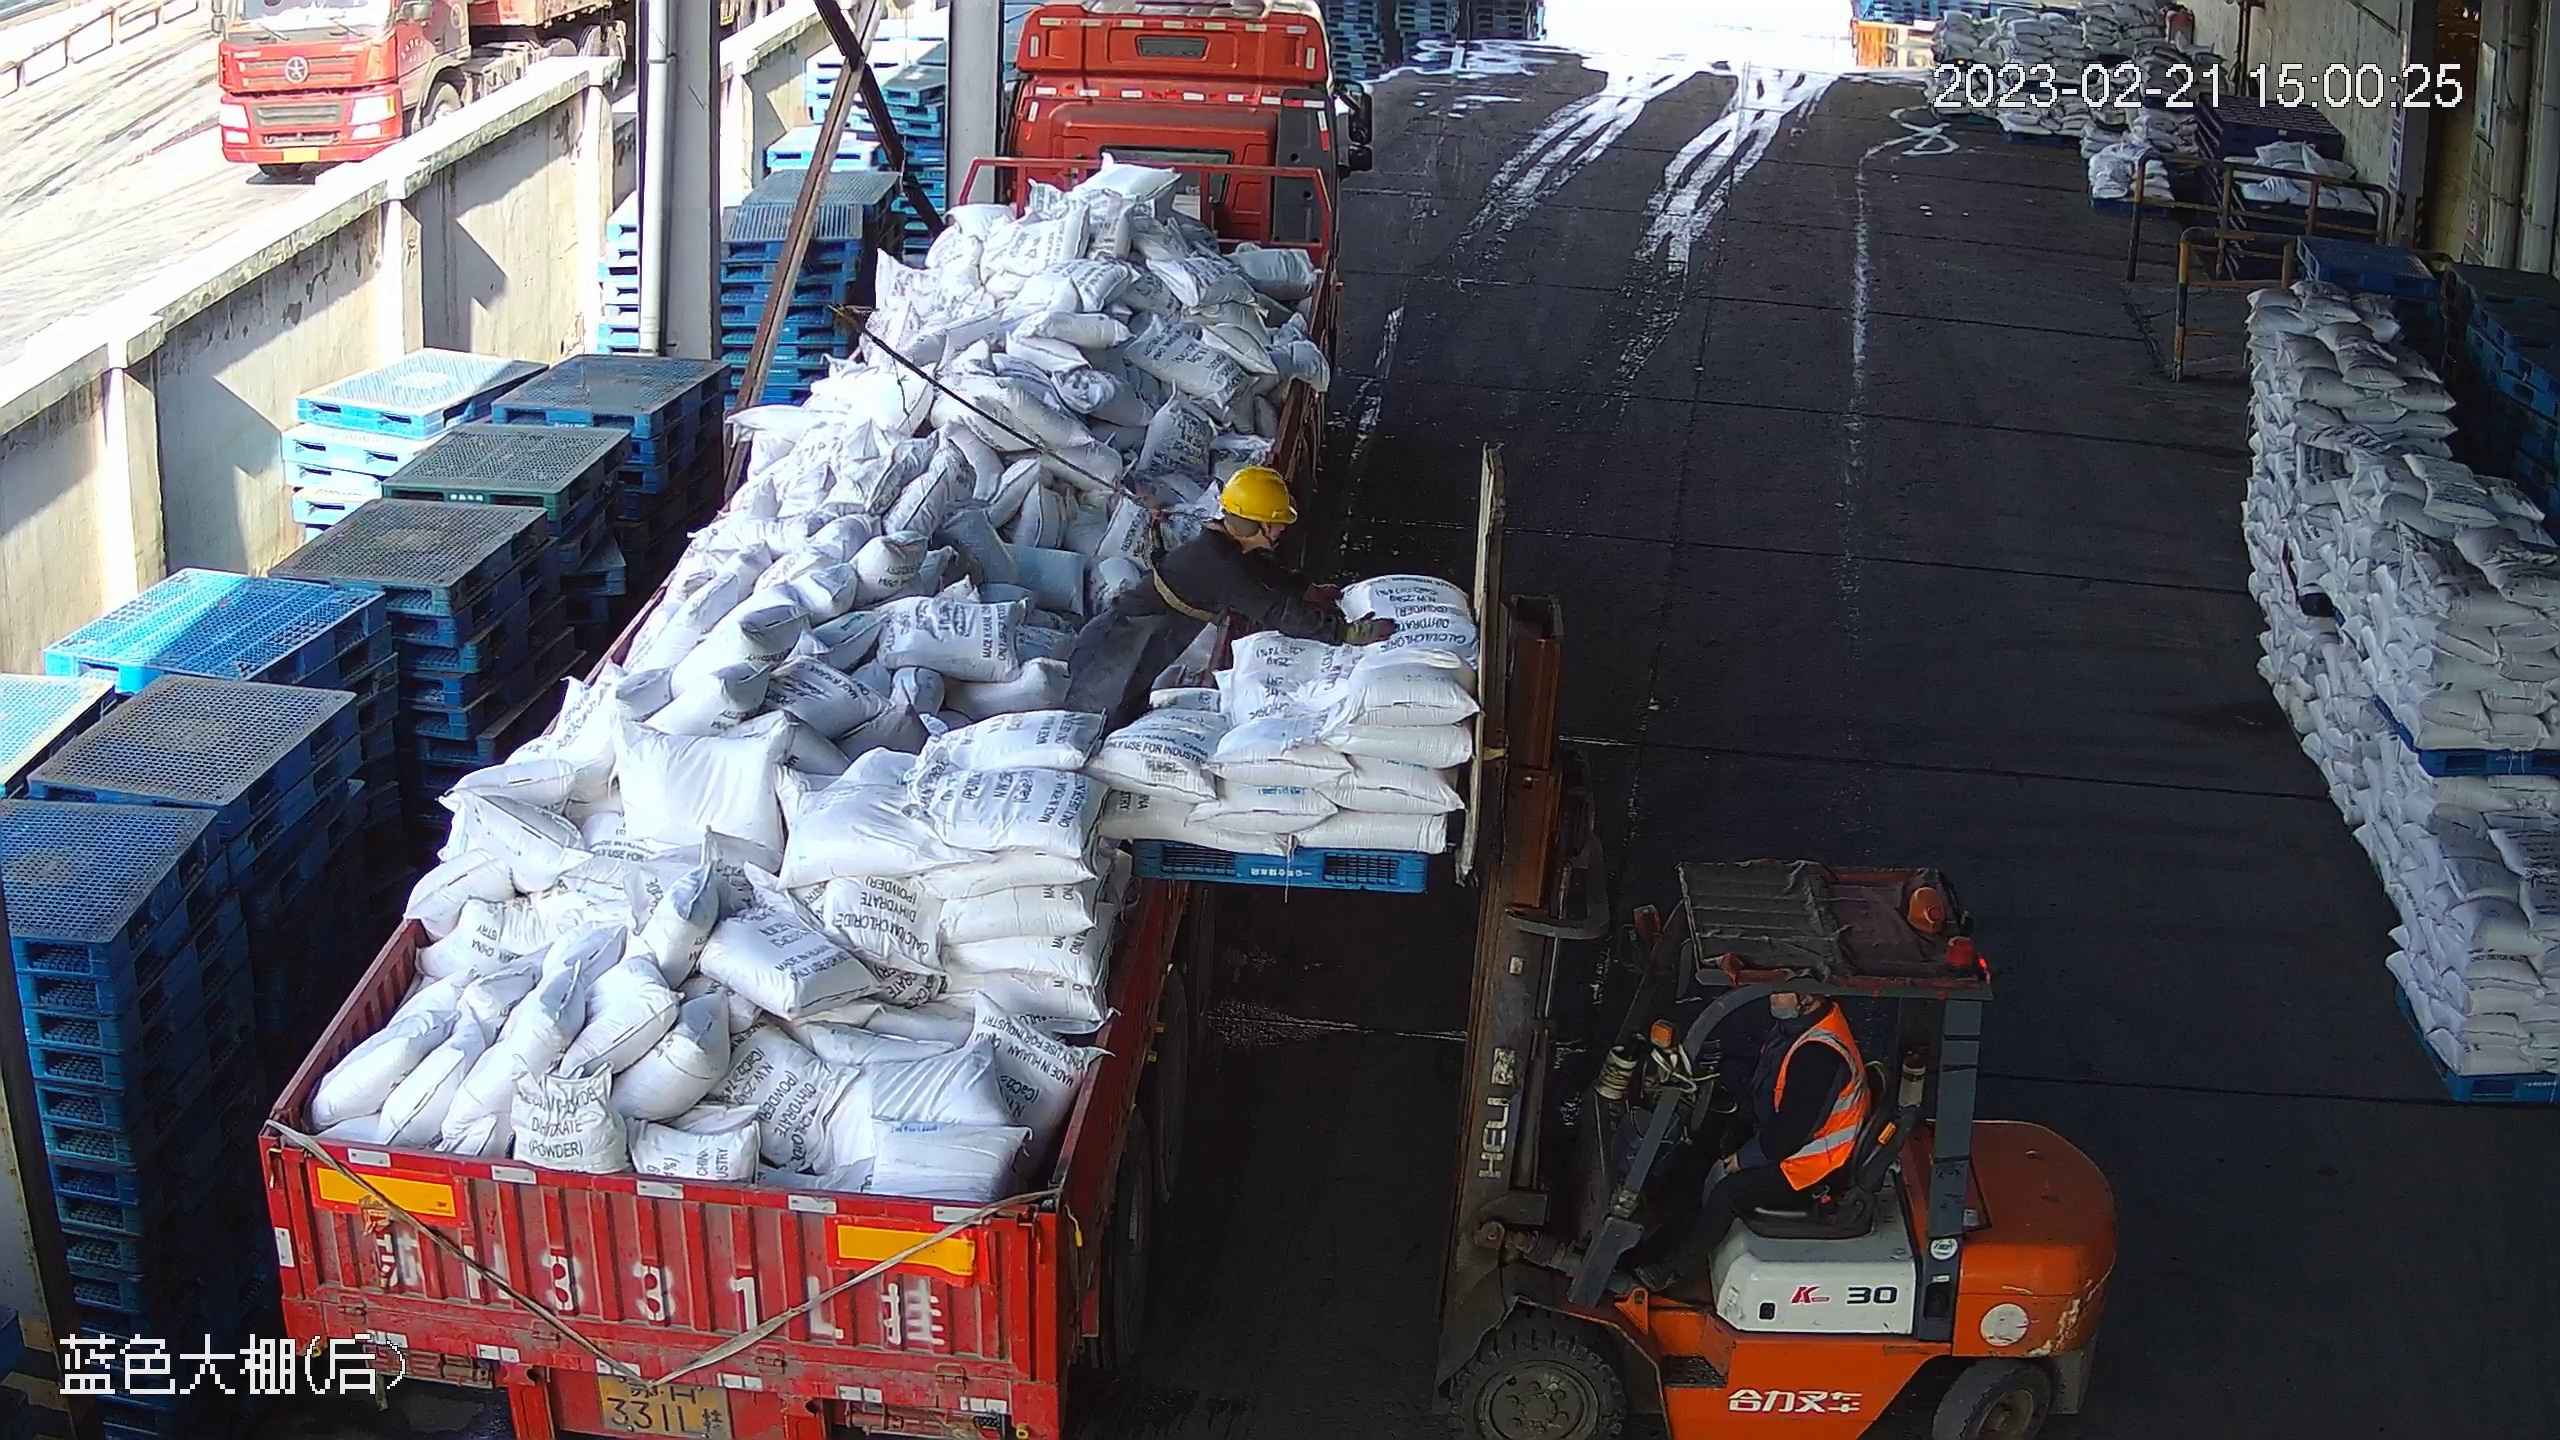belt: (1125, 504, 1237, 619)
head: (1150, 460, 1305, 586), (1723, 984, 1864, 1095)
helmet: (1217, 465, 1299, 525)
people: (1058, 466, 1395, 741), (1630, 984, 1877, 1293)
truck: (241, 1, 1352, 1436)
